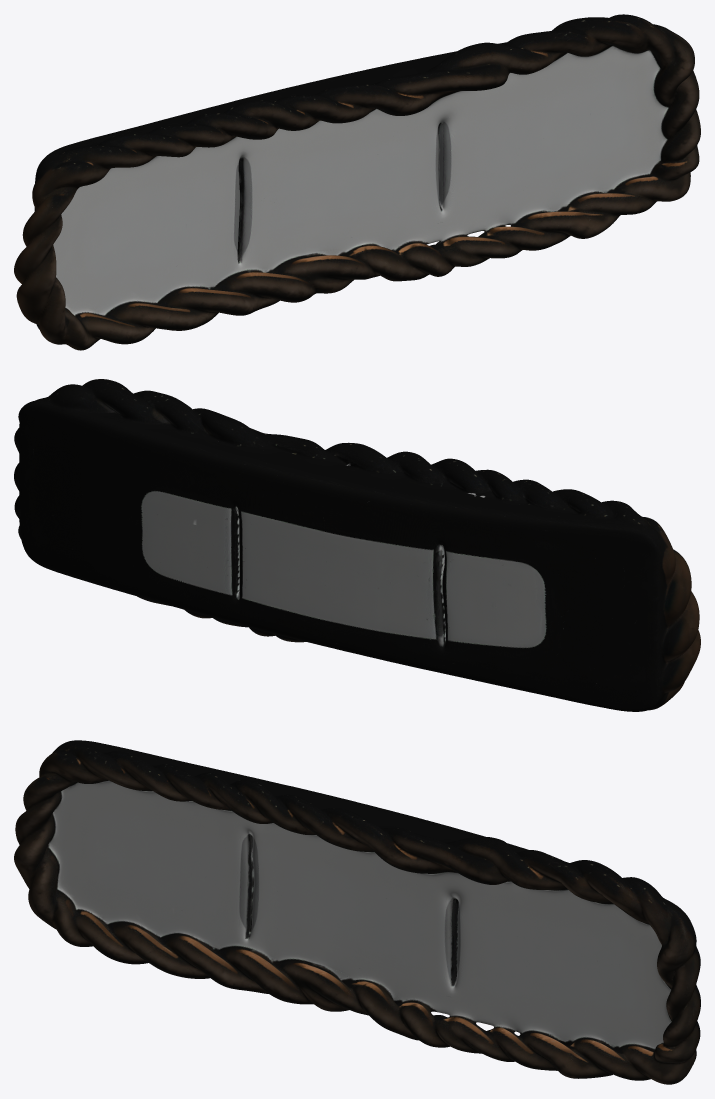
File: resource-hd.glb
3 renders of one model, top to bottom at view 1: azimuth 30°, elevation 25°; view 2: azimuth 150°, elevation 25°; view 3: azimuth 330°, elevation 25°, orthographic.
Size of the model in its own units: 1.9 by 0.5814 by 0.2197.
1 material, 1 textured.
